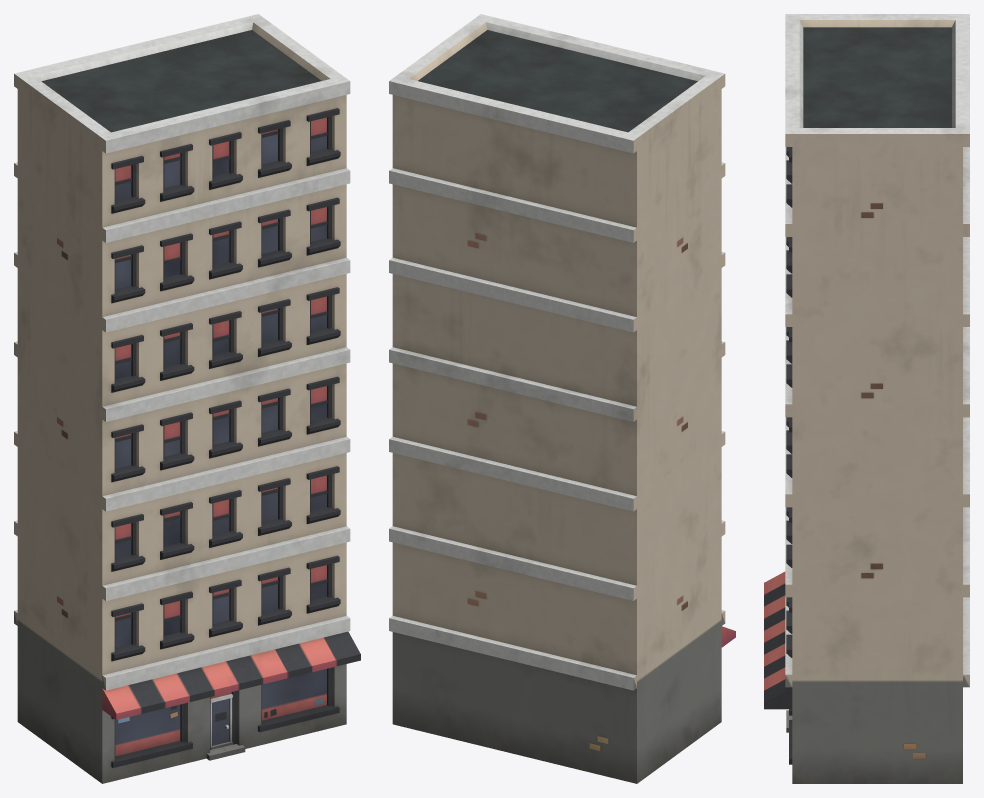
File: building_E_8f.glb
The picture shows the model from 3 angles, left to right: view 1: azimuth 30°, elevation 25°; view 2: azimuth 150°, elevation 25°; view 3: azimuth 270°, elevation 25°; orthographic projection.
Visible parts, largest first — view 1: ground; view 2: ground; view 3: ground.
Part boxes in pixels (x1,y1,x2,y2): ground: (14,14,360,783); ground: (389,14,735,783); ground: (764,14,969,783).
Size of the model in its own units: 2.01 by 5.05 by 1.45.
2 materials, 2 textured.
